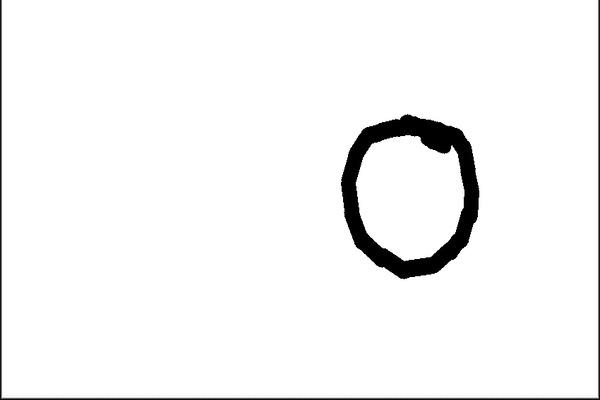O: (327, 102, 488, 287)
